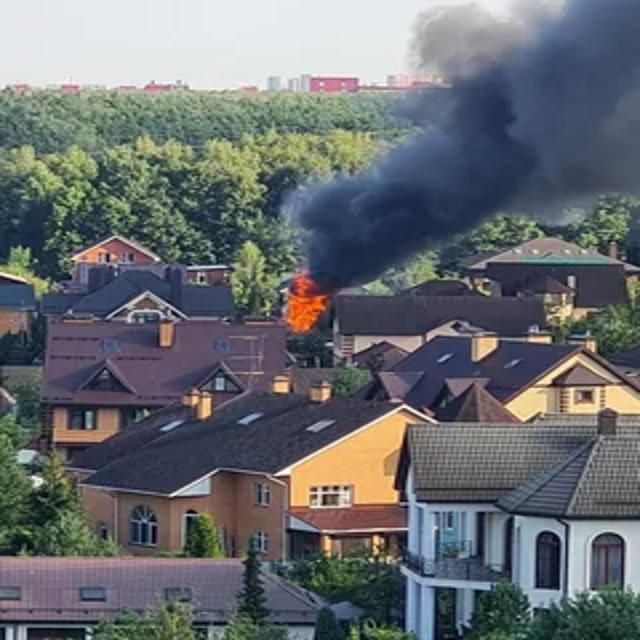Smoke: (288, 2, 640, 294)
